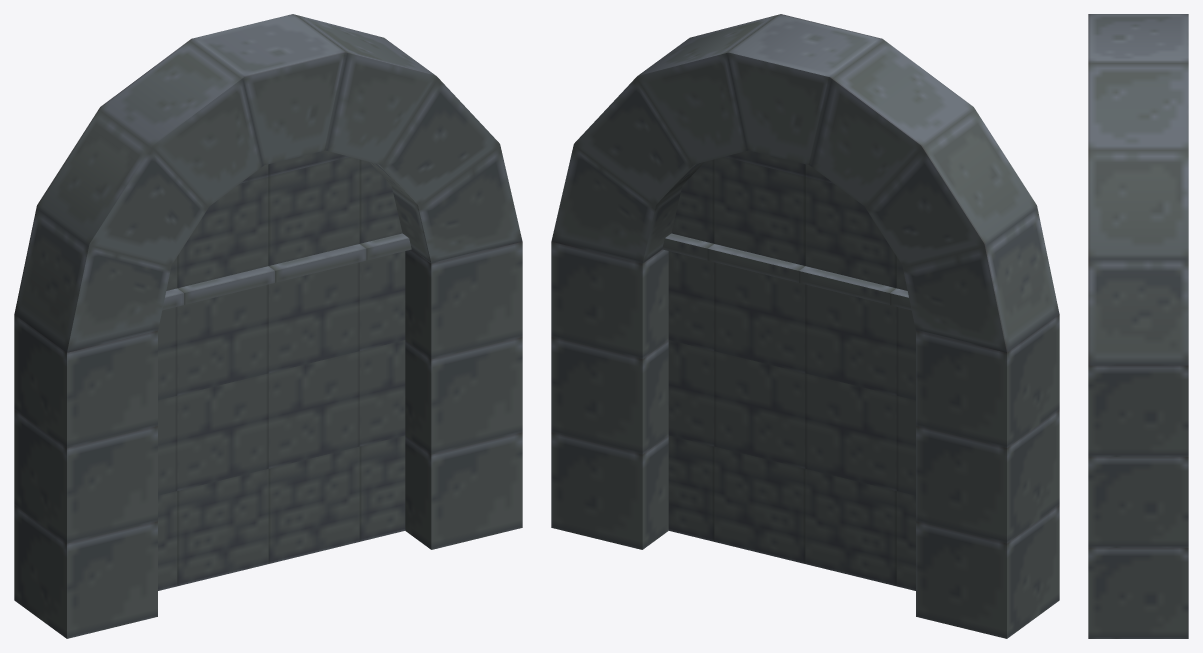
Rendered from arch_inside_large_end.fbx.
3 renders of one model, left to right at view 1: azimuth 30°, elevation 25°; view 2: azimuth 150°, elevation 25°; view 3: azimuth 270°, elevation 25°, orthographic. The views are drawn at different scales.
Parts seen in each view (by area): view 1: arch_inside_large_end; view 2: arch_inside_large_end; view 3: arch_inside_large_end.
Part boxes in pixels (x1,y1,x2,y2): arch_inside_large_end: [14, 14, 522, 638]; arch_inside_large_end: [551, 14, 1059, 638]; arch_inside_large_end: [1088, 14, 1188, 638].
Bounding box in the file's own units: 80 × 87 × 16.
